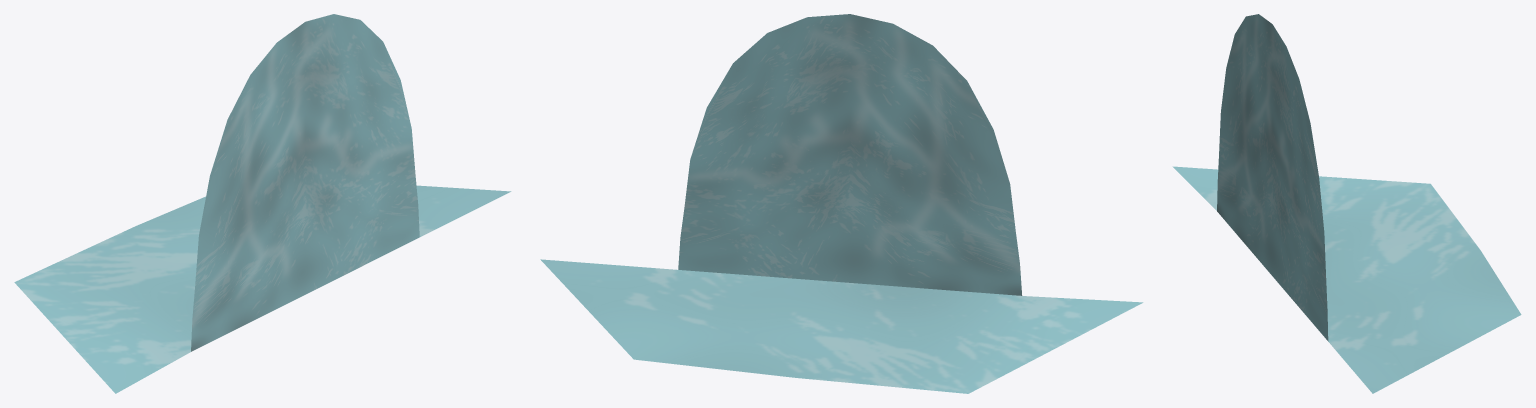
The model's file is LV5Gate.fbx.
The picture shows the model from 3 angles, left to right: view 1: azimuth 30°, elevation 25°; view 2: azimuth 150°, elevation 25°; view 3: azimuth 270°, elevation 25°; orthographic projection. The views are drawn at different scales.
Visible parts, largest first — view 1: pDisc1; view 2: pDisc1; view 3: pDisc1.
Boxes of the visible parts, <box> form: pDisc1: <box>14,14,511,393</box>; pDisc1: <box>540,14,1143,393</box>; pDisc1: <box>1172,14,1521,393</box>.
Bounding box in the file's own units: 52.13 × 26.95 × 33.81.
